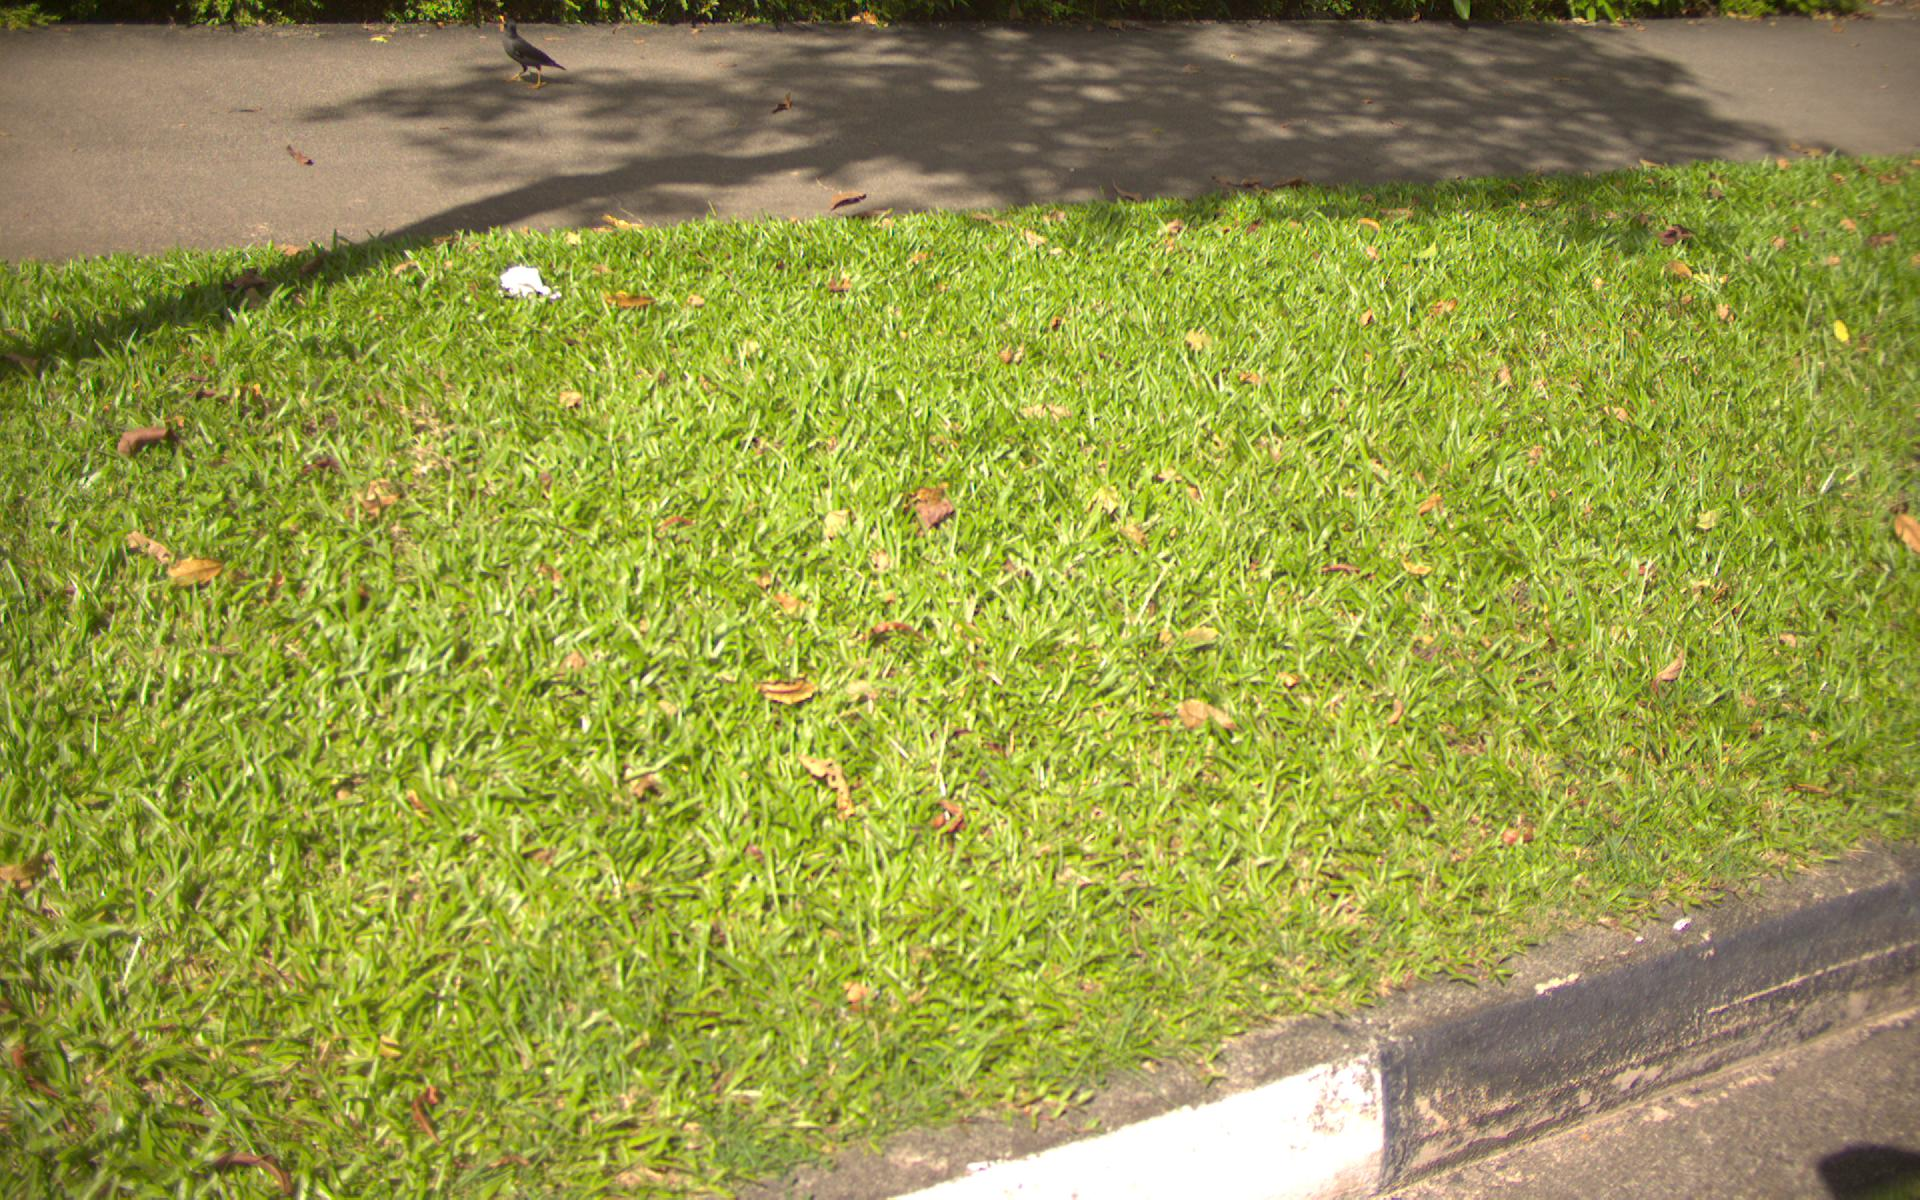pathway_low: (1, 25, 1908, 151)
road_turf_low: (8, 275, 1920, 818)
